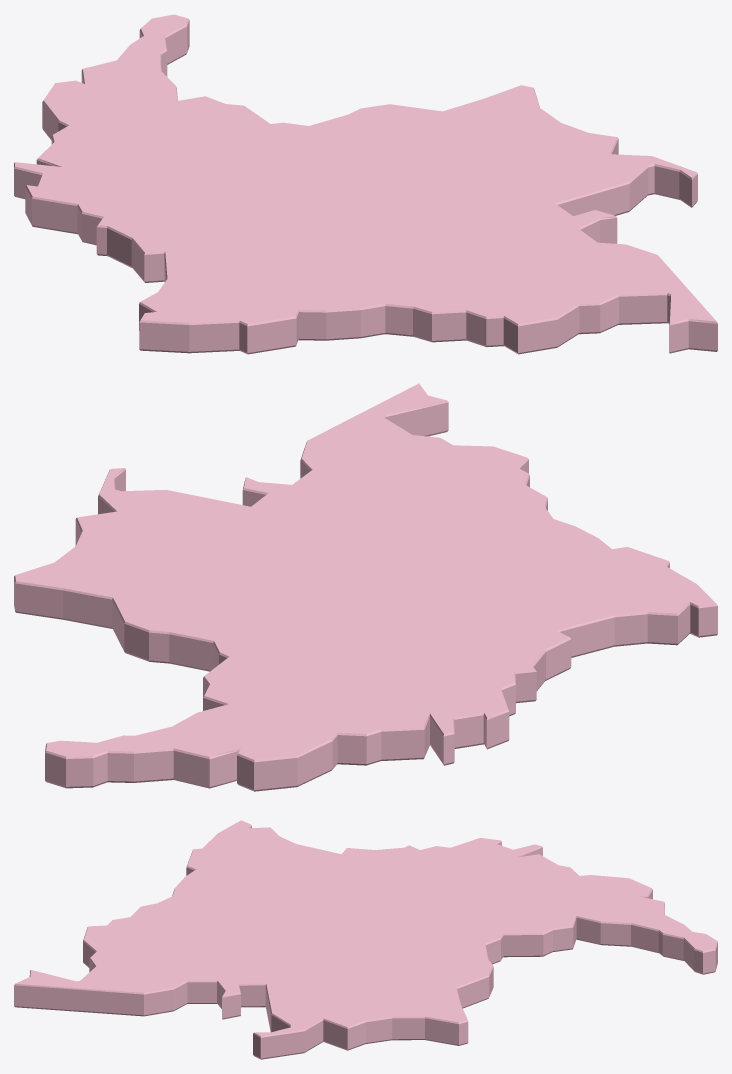
Rendered from COL.glb.
The picture shows the model from 3 angles, top to bottom: view 1: azimuth 30°, elevation 25°; view 2: azimuth 150°, elevation 25°; view 3: azimuth 270°, elevation 25°; orthographic projection. The views are drawn at different scales.
Size of the model in its own units: 1.34 by 0.068 by 1.84.
